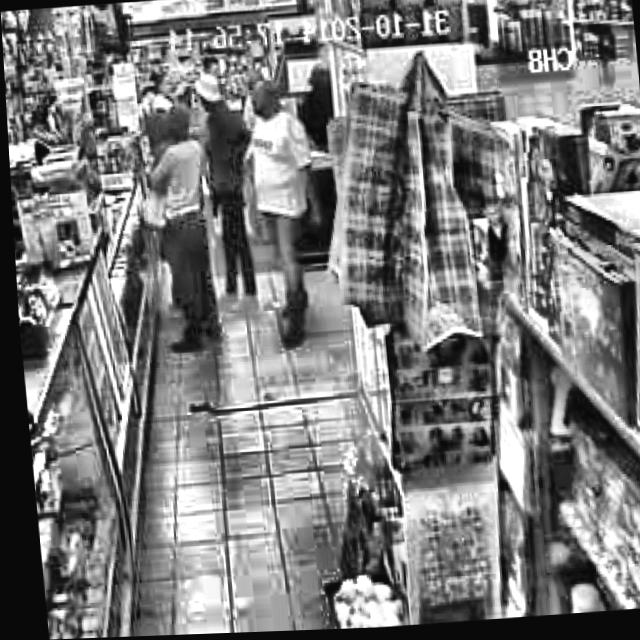robbery: (188, 71, 260, 299)
